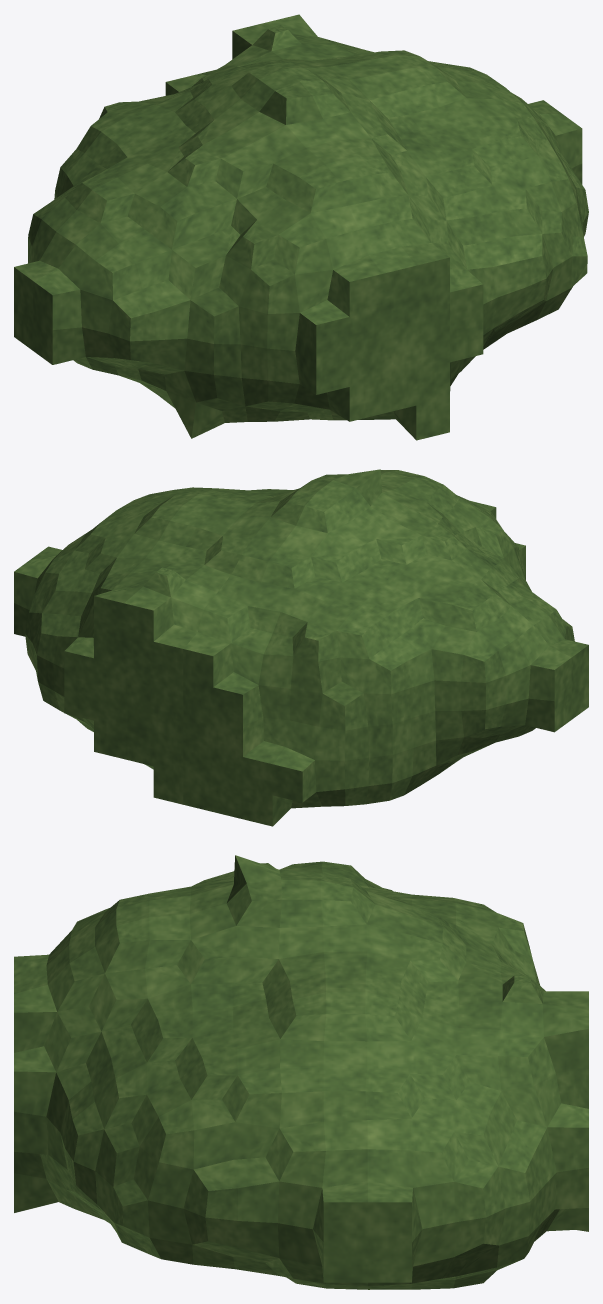
Rendered from shrub_b.glb.
3 views of the same model, one above another, from view 1: azimuth 30°, elevation 25°; view 2: azimuth 150°, elevation 25°; view 3: azimuth 270°, elevation 25° (orthographic). The views are drawn at different scales.
Visible parts, largest first — view 1: wilds_shrub_b; view 2: wilds_shrub_b; view 3: wilds_shrub_b.
Boxes of the visible parts, bbox=[...] form: wilds_shrub_b: bbox=[14, 14, 588, 440]; wilds_shrub_b: bbox=[14, 469, 588, 826]; wilds_shrub_b: bbox=[14, 855, 588, 1289].
Bounding box in the file's own units: 1.06 × 0.5 × 0.8125.
1 material, 1 textured.
